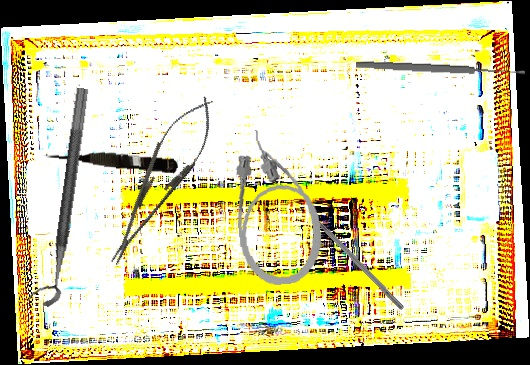Cannula: (228, 124, 326, 289)
Fixation Ring: (26, 84, 91, 309)
Hook Surgical: (301, 202, 406, 311)
Micro Scissor: (42, 145, 179, 174)
Needle Holder: (93, 87, 228, 275)
Surgical Spoon: (355, 59, 526, 79)
